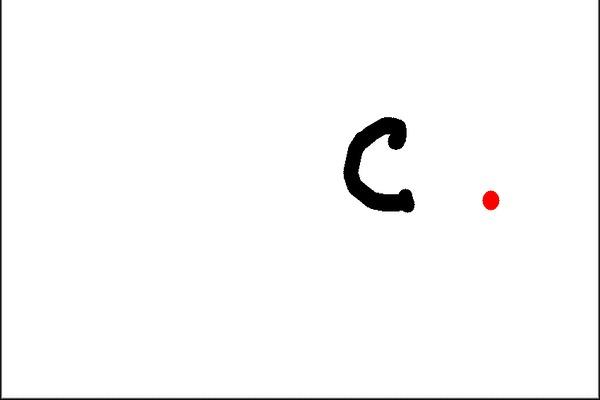C: (339, 108, 420, 216)
